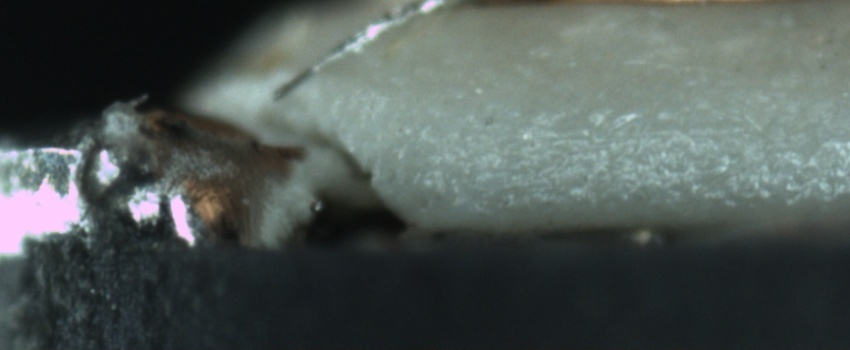DL: (466, 99, 849, 163)
